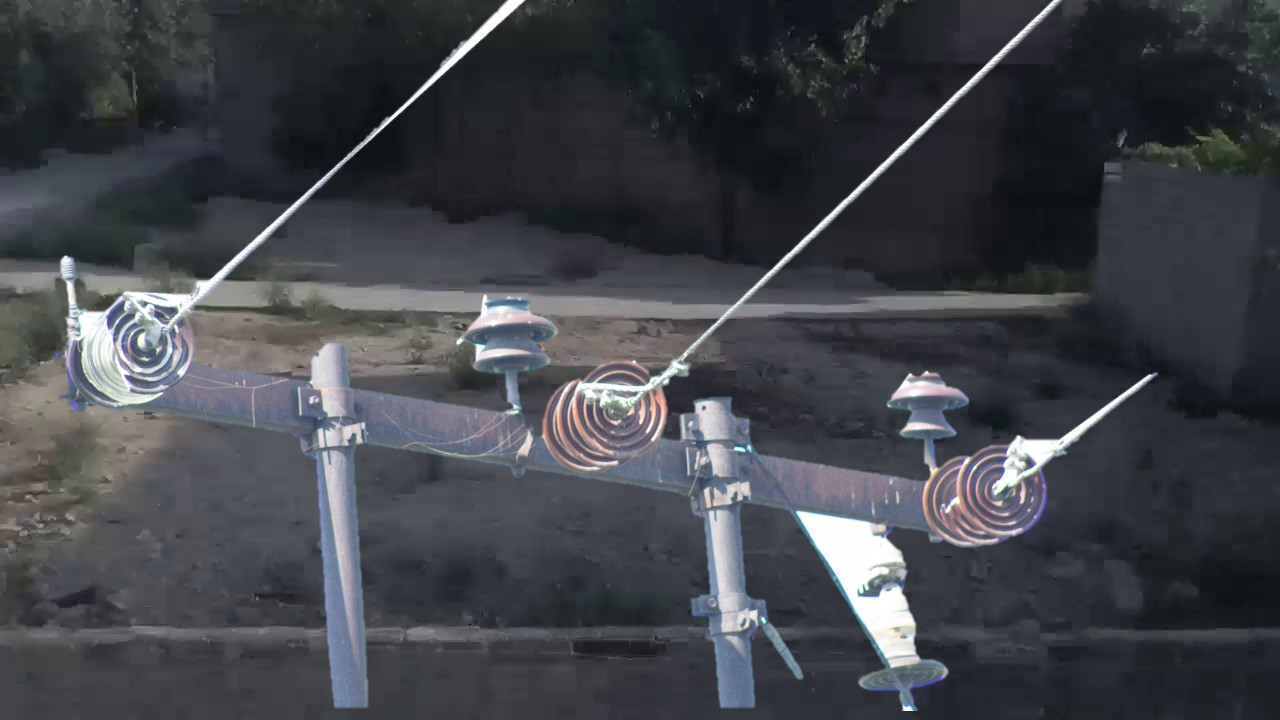defect_disc: (104, 288, 200, 397)
insulator_disc: (954, 436, 1054, 543), (568, 359, 670, 461)
